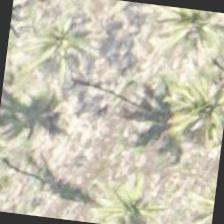Kelapa_Sawit: (9, 0, 110, 94), (158, 63, 223, 161), (72, 167, 169, 223), (142, 4, 223, 66)
